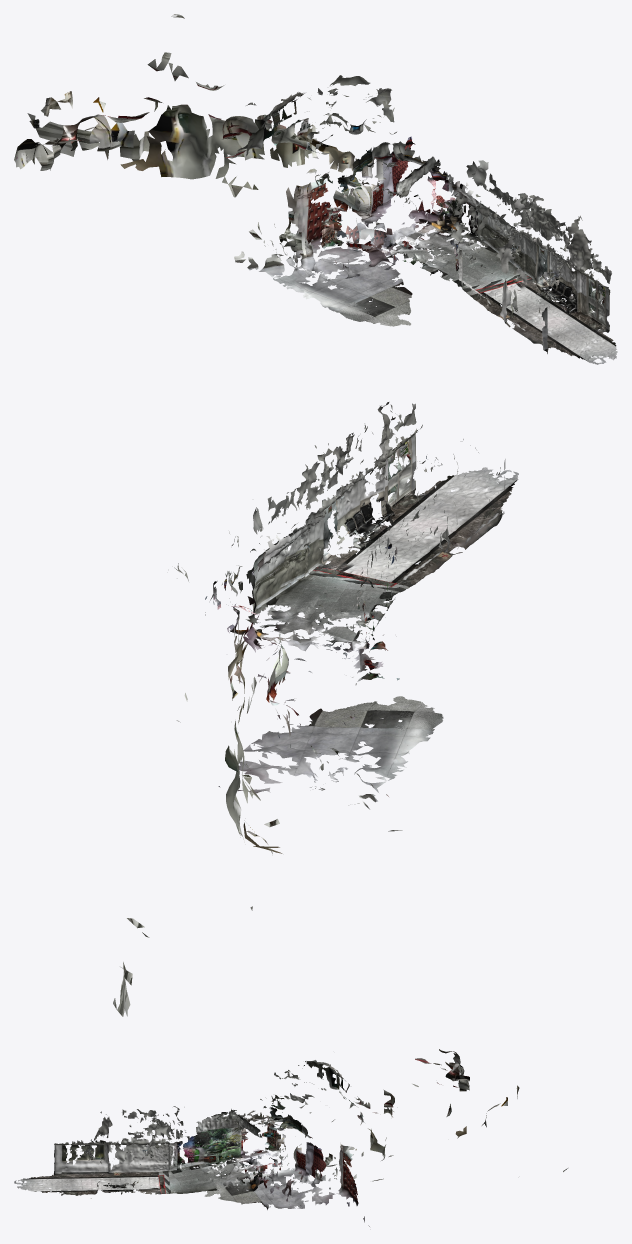
Rendered from 139854-jalankejenazah-tex.glb.
3 views of the same model, one above another, from view 1: azimuth 30°, elevation 25°; view 2: azimuth 150°, elevation 25°; view 3: azimuth 270°, elevation 25° (orthographic). The views are drawn at different scales.
Visible parts, largest first — view 1: Node; view 2: Node; view 3: Node.
Boxes of the visible parts, <box> form: Node: <box>14,14,617,364</box>; Node: <box>113,402,518,1016</box>; Node: <box>14,1049,567,1226</box>.
Size of the model in its own units: 15.12 by 8.42 by 34.38.
Materials: 19 (19 with a texture image).
